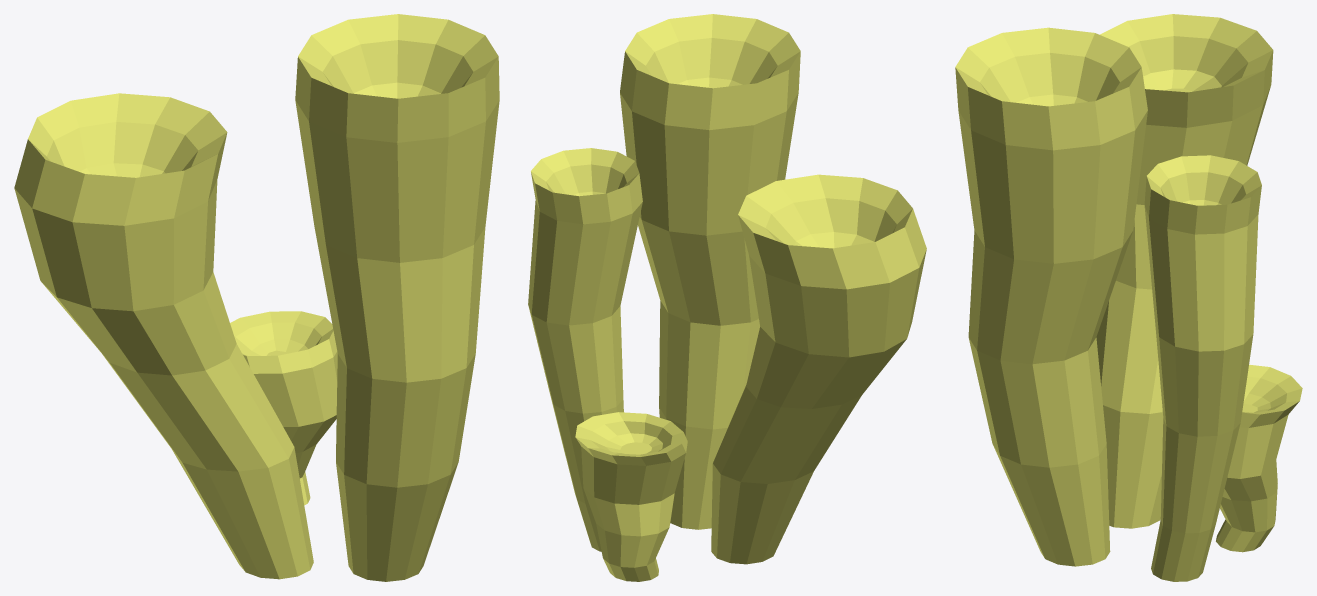
File: coral 7.fbx
3 views of the same model, side by side, from view 1: azimuth 30°, elevation 25°; view 2: azimuth 150°, elevation 25°; view 3: azimuth 270°, elevation 25° (orthographic). The views are drawn at different scales.
Visible parts, largest first — view 1: Cylinder.003; view 2: Cylinder.003; view 3: Cylinder.003.
Part boxes in pixels (x1=…): Cylinder.003: x1=14, y1=14, x2=499, y2=581; Cylinder.003: x1=528, y1=14, x2=926, y2=581; Cylinder.003: x1=955, y1=14, x2=1302, y2=581.
Size of the model in its own units: 67.64 by 80.14 by 52.03.
